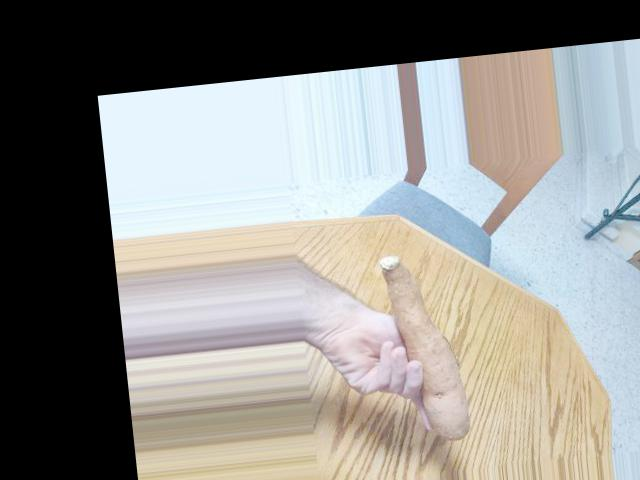sweet_potato: (372, 247, 475, 449)
